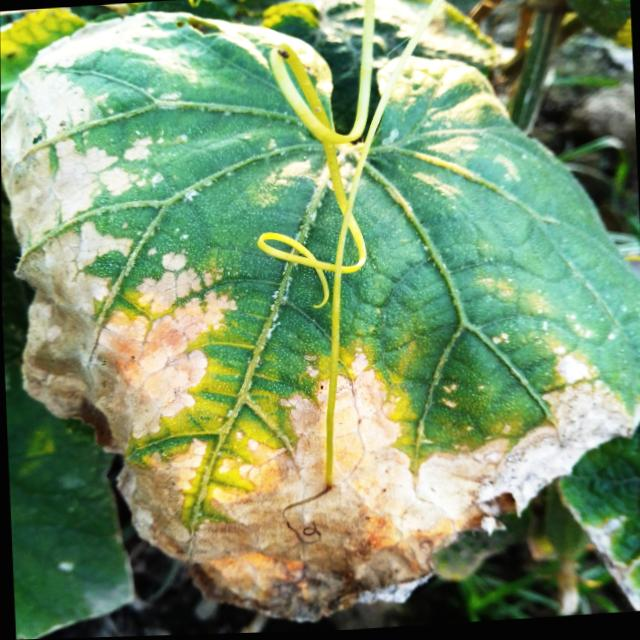Gummy-Stem-Blight: (1, 13, 640, 629)
